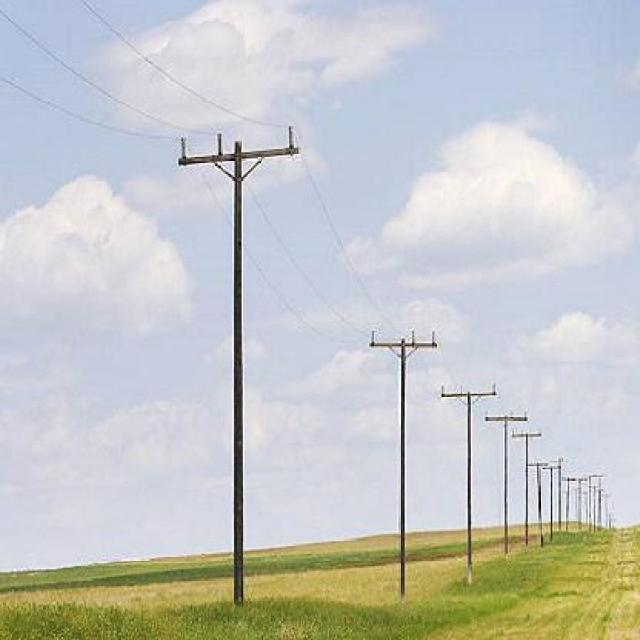light_pole: (160, 116, 314, 603)
